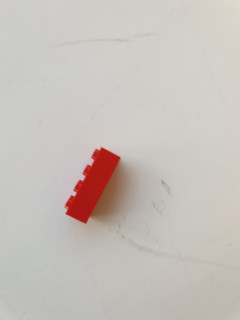2x4 red: (64, 146, 121, 225)
